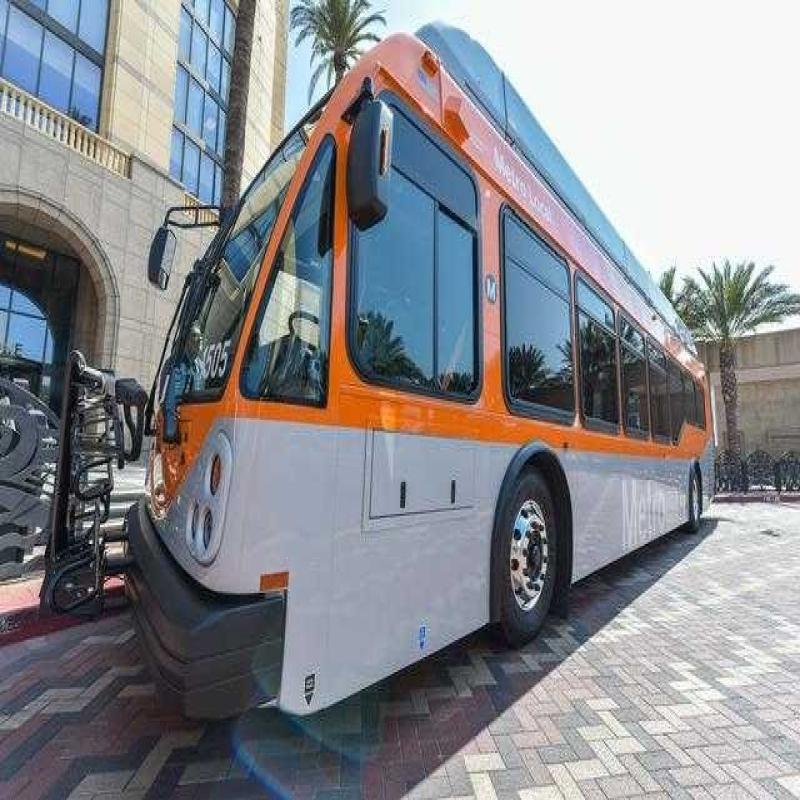bus: (119, 0, 737, 733)
